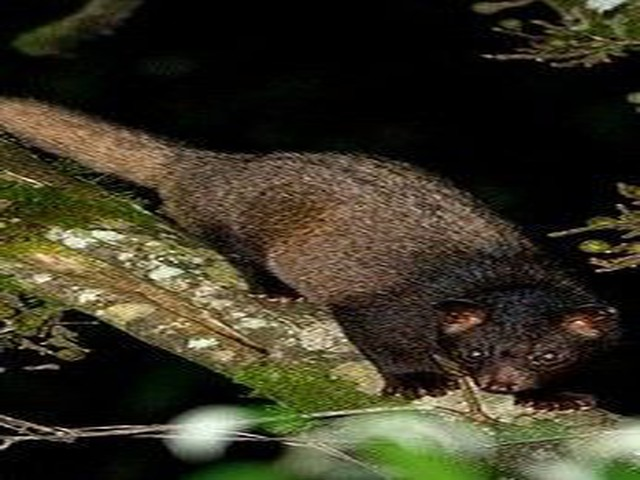civet: (1, 91, 624, 426)
